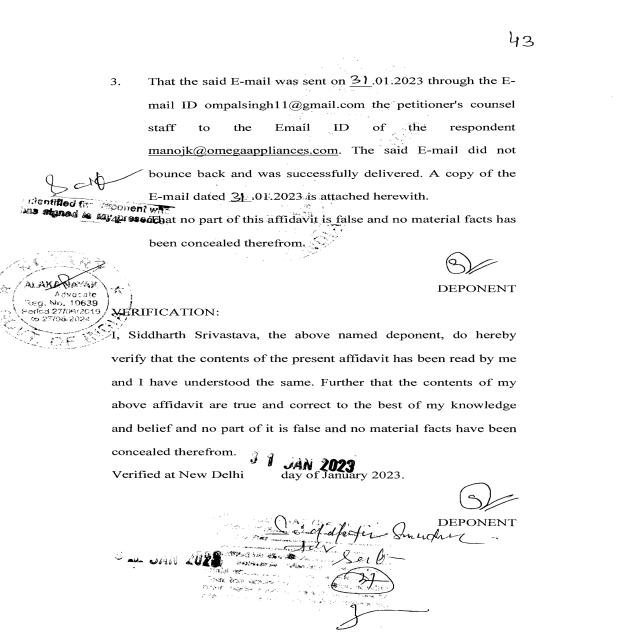page-number: (396, 1, 633, 75)
